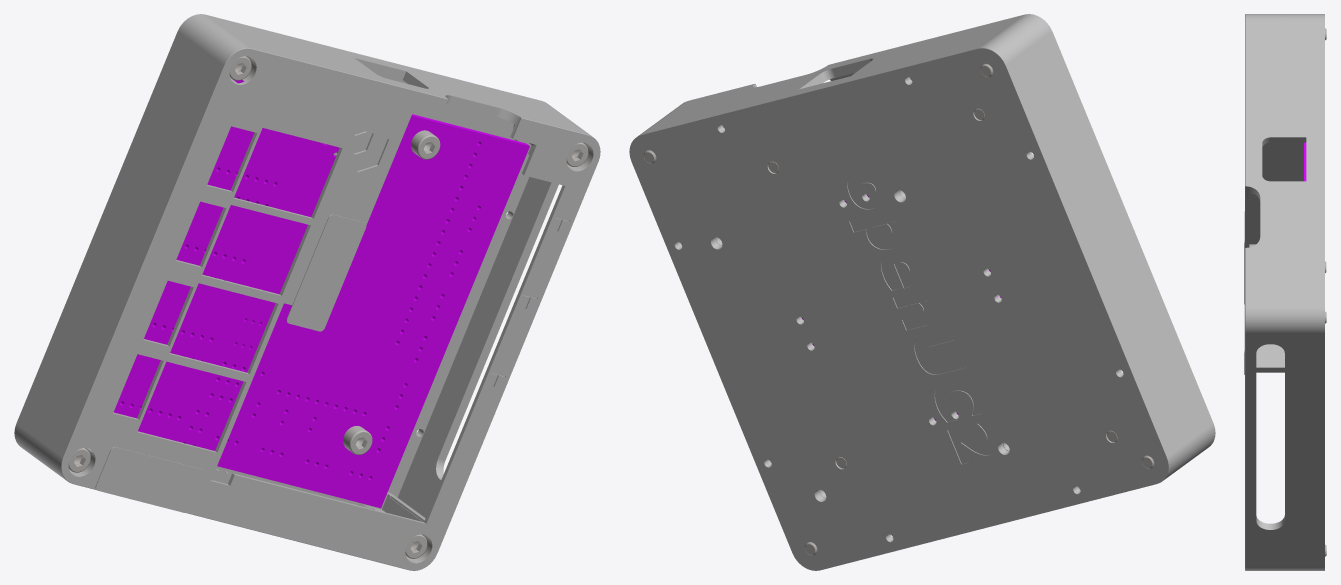
Rendered from ASS_-_4008_-_MAIBRD+CAS.glb.
3 renders of one model, left to right at view 1: azimuth 30°, elevation 25°; view 2: azimuth 150°, elevation 25°; view 3: azimuth 270°, elevation 25°, orthographic. The views are drawn at different scales.
Visible parts, largest first — view 1: =>[0:1:1:4], BRD - Mainboard platine V3:1, PRT - 1009 - CASBRDBAS:1, PRT - 5001 - STKCAUHEA25x10:1, PRT - 5003 - STKCAUDNTCOV25x10:1; view 2: PRT - 1009 - CASBRDBAS:1, =>[0:1:1:4]; view 3: =>[0:1:1:4], PRT - 1009 - CASBRDBAS:1.
Part boxes in pixels (x1,y1,x2,y2): =>[0:1:1:4]: (25, 22, 600, 570); BRD - Mainboard platine V3:1: (114, 78, 529, 508); PRT - 1009 - CASBRDBAS:1: (14, 14, 555, 510); PRT - 5001 - STKCAUHEA25x10:1: (286, 214, 366, 331); PRT - 5003 - STKCAUDNTCOV25x10:1: (95, 447, 204, 512); PRT - 1009 - CASBRDBAS:1: (629, 40, 1179, 570); =>[0:1:1:4]: (649, 14, 1215, 488); =>[0:1:1:4]: (1245, 14, 1306, 570); PRT - 1009 - CASBRDBAS:1: (1306, 14, 1324, 570).
Size of the model in its own units: 130 by 130 by 20.2.
